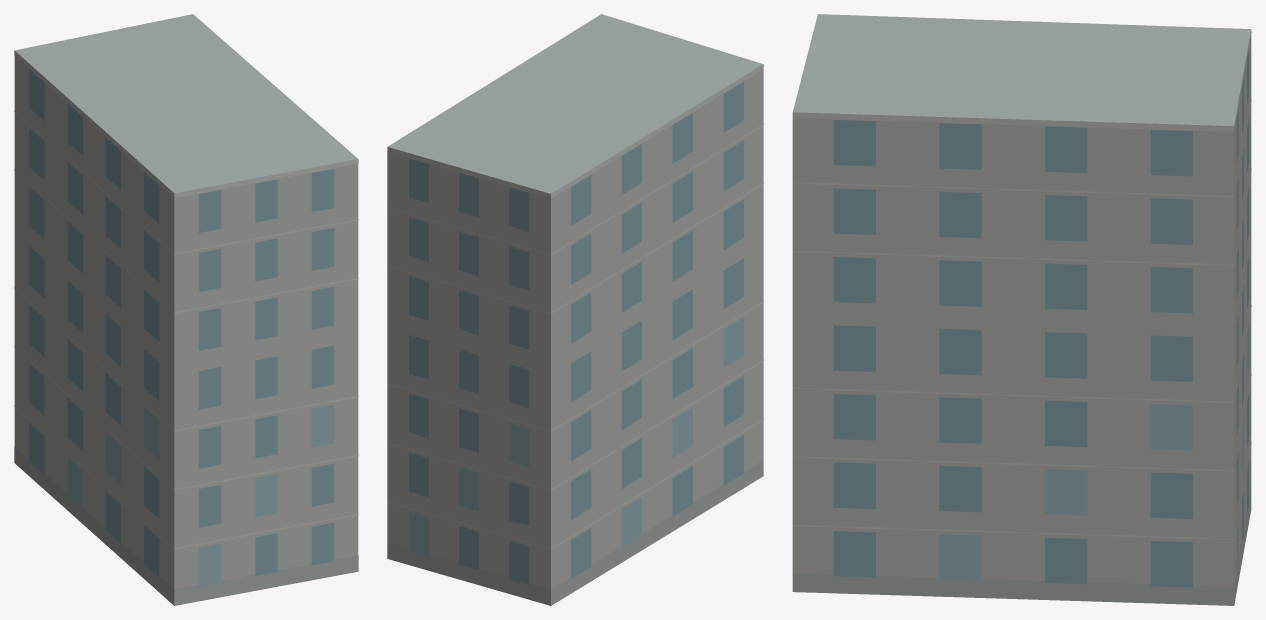
The model's file is survey-upis-32909750.glb.
The picture shows the model from 3 angles, left to right: view 1: azimuth 30°, elevation 25°; view 2: azimuth 150°, elevation 25°; view 3: azimuth 270°, elevation 25°; orthographic projection. The views are drawn at different scales.
Visible parts, largest first — view 1: survey-upis-32909750.tmp; view 2: survey-upis-32909750.tmp; view 3: survey-upis-32909750.tmp.
Part boxes in pixels (bbox=[...]): survey-upis-32909750.tmp: bbox=[14, 14, 358, 605]; survey-upis-32909750.tmp: bbox=[387, 14, 763, 605]; survey-upis-32909750.tmp: bbox=[792, 14, 1251, 605].
Size of the model in its own units: 10.01 by 19.9 by 17.27.
